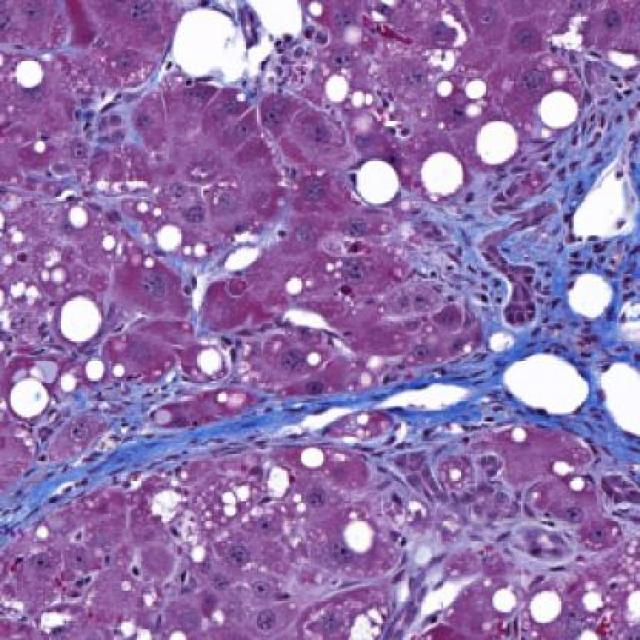fibrosis: (410, 164, 624, 440)
